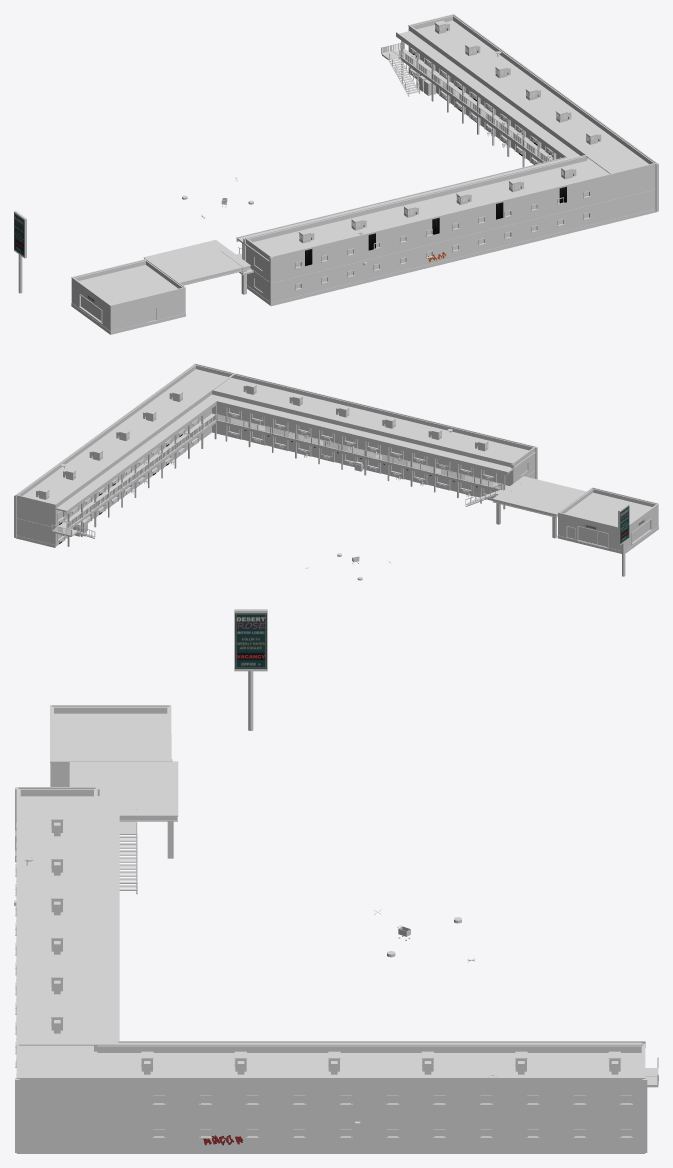
Rendered from WG01_Motel.fbx.
3 renders of one model, top to bottom at view 1: azimuth 30°, elevation 25°; view 2: azimuth 150°, elevation 25°; view 3: azimuth 270°, elevation 25°, orthographic. The views are drawn at different scales.
Parts seen in each view (by area): view 1: WG01_Motel_M__Plaster_E6D5B8, WG01_Motel_M__Concrete_8E8A84, WG01_Motel_T__Metal_8F8C84, WG01_Motel_T__Plaster_C9785F, WG01_Motel_M__Concrete_B3AC9C, WG01_Motel_T__Metal_2E2E2E, WG01_Motel_T__Plaster_F2EDE2, WG01_Motel_M__Metal_4A4C4E, WG01_Motel_C__Metal_B5B1A4, WG01_Motel_C__Metal_8C887B, WG01_Motel_C__Metal_A19D90, WG01_Motel_M__Glass_3A4449 (+1 smaller); view 2: WG01_Motel_M__Concrete_8E8A84, WG01_Motel_M__Plaster_E6D5B8, WG01_Motel_T__Plaster_C9785F, WG01_Motel_T__Metal_8F8C84, WG01_Motel_T__Metal_2E2E2E, WG01_Motel_M__Concrete_B3AC9C, WG01_Motel_M__Metal_4A4C4E, WG01_Motel_M__Glass_2B3438, WG01_Motel_T__Metal_3A3129, WG01_Motel_M__Metal_2F8F8B, WG01_Motel_C__Metal_C2BEB2, WG01_Motel_C__Metal_B5B1A4 (+6 smaller); view 3: WG01_Motel_M__Plaster_E6D5B8, WG01_Motel_M__Concrete_8E8A84, WG01_Motel_T__Metal_8F8C84, WG01_Motel_T__Plaster_C9785F, WG01_Motel_T__Plaster_F2EDE2, WG01_Motel_C__Sign_motel_pole, WG01_Motel_M__Glass_3A4449, WG01_Motel_M__Concrete_B3AC9C, WG01_Motel_C__Metal_9EA2A3, WG01_Motel_C__Metal_A19D90, WG01_Motel_T__Plaster_D9C4A0, WG01_Motel_C__Metal_B5B1A4.
Boxes of the visible parts, x1,y1,x2,y2 form: WG01_Motel_M__Plaster_E6D5B8: (71, 15, 655, 331); WG01_Motel_M__Concrete_8E8A84: (79, 20, 648, 304); WG01_Motel_T__Metal_8F8C84: (71, 14, 657, 306); WG01_Motel_T__Plaster_C9785F: (71, 32, 656, 334); WG01_Motel_M__Concrete_B3AC9C: (236, 49, 555, 274); WG01_Motel_T__Metal_2E2E2E: (221, 42, 551, 273); WG01_Motel_T__Plaster_F2EDE2: (294, 53, 590, 290); WG01_Motel_M__Metal_4A4C4E: (242, 41, 554, 259); WG01_Motel_C__Metal_B5B1A4: (299, 23, 597, 241); WG01_Motel_C__Metal_8C887B: (299, 25, 597, 240); WG01_Motel_C__Metal_A19D90: (298, 20, 598, 235); WG01_Motel_M__Glass_3A4449: (296, 192, 588, 288); WG01_Motel_M__Concrete_8E8A84: (22, 369, 651, 526); WG01_Motel_M__Plaster_E6D5B8: (17, 365, 658, 550); WG01_Motel_T__Plaster_C9785F: (16, 400, 658, 553); WG01_Motel_T__Metal_8F8C84: (15, 363, 658, 527); WG01_Motel_T__Metal_2E2E2E: (51, 414, 530, 537); WG01_Motel_M__Concrete_B3AC9C: (51, 413, 509, 537); WG01_Motel_M__Metal_4A4C4E: (67, 405, 505, 546); WG01_Motel_M__Glass_2B3438: (58, 408, 650, 546); WG01_Motel_T__Metal_3A3129: (57, 408, 652, 548); WG01_Motel_M__Metal_2F8F8B: (65, 417, 503, 538); WG01_Motel_C__Metal_C2BEB2: (59, 414, 491, 542); WG01_Motel_C__Metal_B5B1A4: (39, 386, 488, 498); WG01_Motel_M__Plaster_E6D5B8: (18, 706, 643, 1148); WG01_Motel_M__Concrete_8E8A84: (20, 713, 641, 1077); WG01_Motel_T__Metal_8F8C84: (16, 705, 645, 1078); WG01_Motel_T__Plaster_C9785F: (16, 763, 658, 1153); WG01_Motel_T__Plaster_F2EDE2: (15, 823, 632, 1138); WG01_Motel_C__Sign_motel_pole: (235, 613, 266, 668); WG01_Motel_M__Glass_3A4449: (154, 1097, 631, 1136); WG01_Motel_M__Concrete_B3AC9C: (119, 821, 658, 1087); WG01_Motel_C__Metal_9EA2A3: (54, 822, 618, 1074); WG01_Motel_C__Metal_A19D90: (51, 813, 620, 1058); WG01_Motel_T__Plaster_D9C4A0: (15, 787, 647, 1152); WG01_Motel_C__Metal_B5B1A4: (51, 820, 620, 1069).
Size of the model in its own units: 301 by 45.4 by 193.
Materials: 82 (37 with a texture image).
